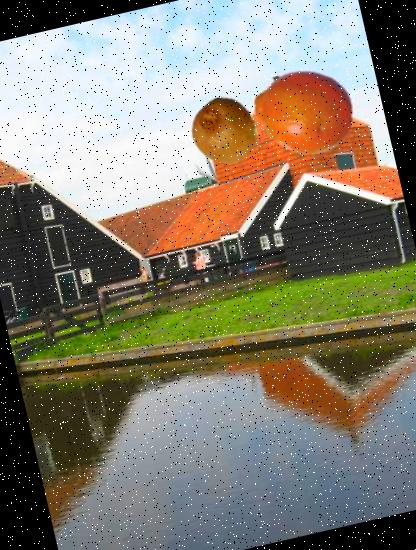Kiwi: (183, 90, 265, 172)
Tangelo: (244, 51, 362, 170)
